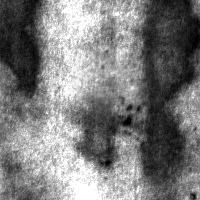patches: (140, 1, 200, 180), (72, 43, 150, 121), (1, 1, 42, 98), (75, 97, 116, 166), (123, 99, 141, 126)
